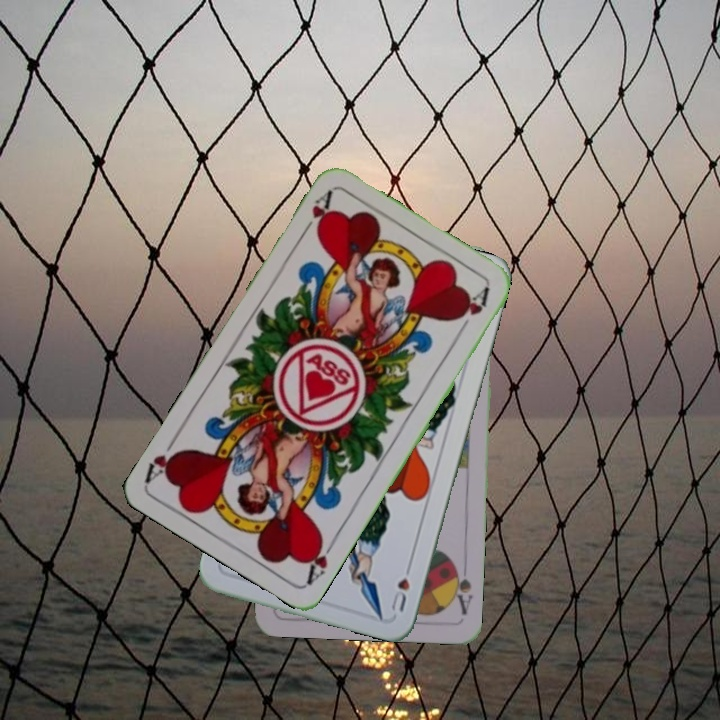HA: (302, 531, 340, 587), (296, 187, 335, 240)
HU: (387, 558, 415, 614)
SA: (447, 559, 475, 618)
